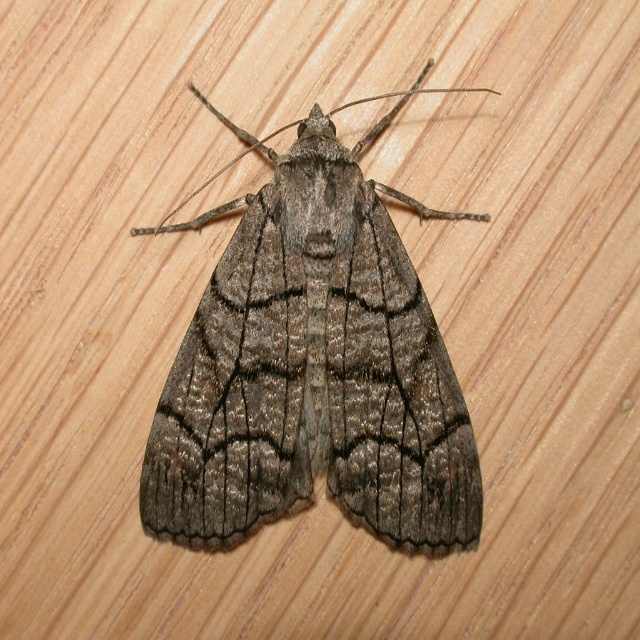Moths and butterflies: (129, 54, 502, 563)
